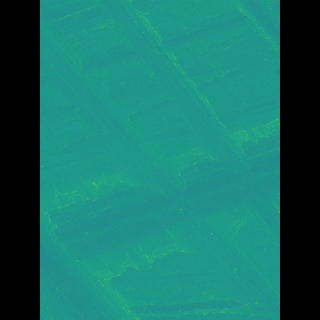Loch: (70, 19, 250, 320), (110, 0, 250, 248), (70, 227, 141, 320), (214, 0, 250, 62)
